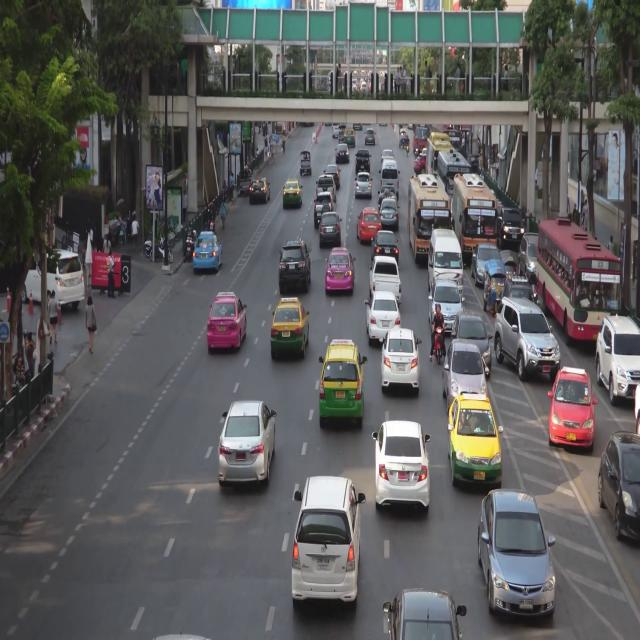bus: (539, 219, 622, 346), (408, 176, 452, 267), (453, 176, 498, 264), (439, 151, 471, 208), (427, 131, 451, 182), (412, 123, 429, 156)
car: (479, 491, 556, 619), (292, 478, 364, 608), (374, 423, 431, 514), (496, 299, 560, 376), (219, 401, 276, 484), (599, 435, 640, 543), (18, 251, 86, 309), (597, 318, 640, 405), (388, 591, 462, 640), (445, 342, 486, 410), (453, 311, 492, 376), (382, 328, 420, 389), (431, 232, 465, 294), (430, 283, 464, 334), (368, 295, 403, 341), (279, 241, 310, 292), (369, 259, 402, 302), (505, 278, 538, 315), (473, 243, 501, 285), (499, 204, 524, 249), (519, 232, 539, 285), (372, 232, 399, 270), (485, 265, 506, 312), (314, 191, 336, 225), (380, 160, 399, 199), (321, 212, 341, 245), (500, 251, 518, 287), (317, 173, 338, 201), (249, 175, 268, 205), (381, 197, 398, 228), (380, 185, 399, 211), (355, 173, 373, 200), (325, 162, 341, 189), (354, 149, 372, 173), (335, 140, 350, 164), (299, 150, 313, 175), (240, 169, 251, 194), (364, 127, 377, 147), (400, 125, 409, 151), (382, 151, 394, 164), (333, 122, 343, 137)
pedestrian: (85, 296, 97, 359), (48, 289, 58, 347), (24, 333, 36, 376), (107, 253, 115, 297), (131, 219, 138, 249), (583, 198, 591, 224), (220, 198, 226, 229), (607, 231, 615, 254), (182, 192, 188, 221), (270, 140, 276, 167), (229, 170, 234, 199), (103, 236, 110, 256), (573, 200, 578, 218), (282, 132, 286, 154)
taxi: (449, 393, 504, 488), (548, 364, 597, 452), (321, 344, 364, 421), (208, 294, 250, 350), (273, 296, 309, 354), (326, 246, 355, 292), (193, 231, 220, 274), (357, 208, 382, 242), (283, 177, 302, 207), (344, 128, 357, 148)
